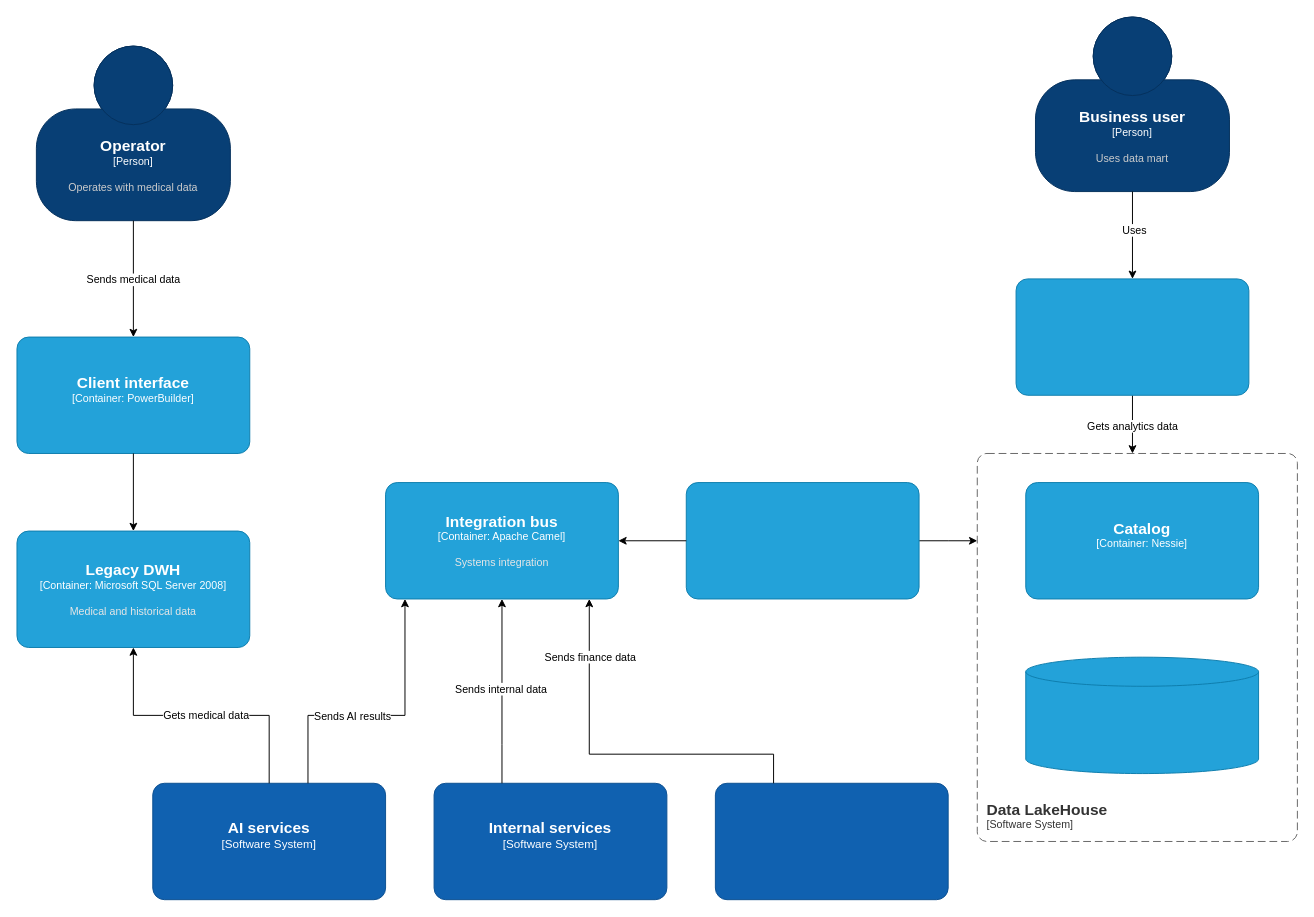
Image size: 1314x917. Some labels were removed from this diagram. The centre of each missing label's shape, as x and y in pixels:
Data flow management [Container: Apache Airflow]: (802,540)
Fintech services [Software System] Credits, transactions: (831,841)
Object storage [Container: MinIO] No medical data: (1142,715)
Self-service portal [Container: Dremio]: (1132,336)
